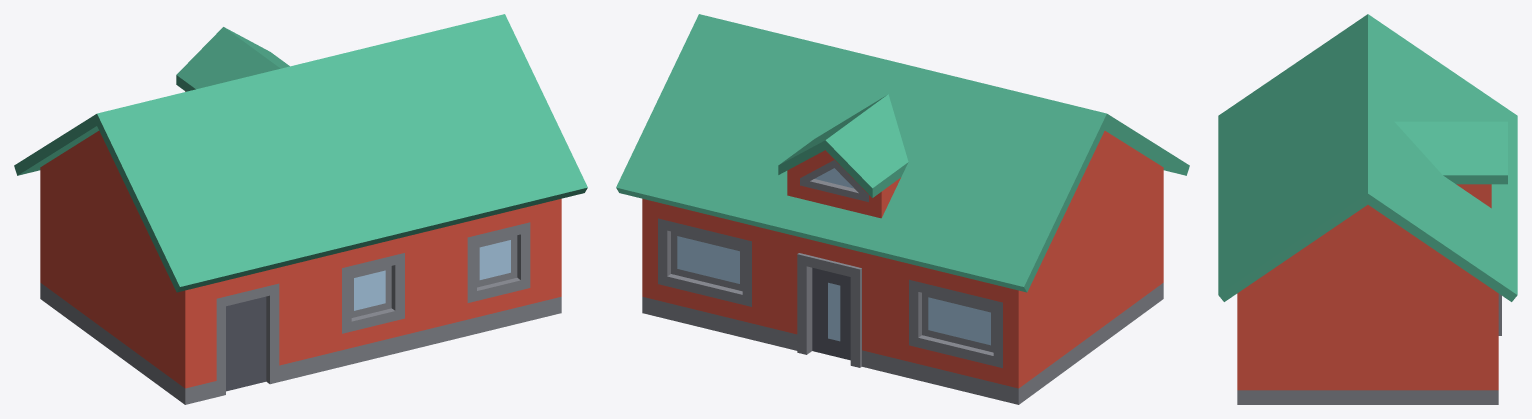
File: house_type07.fbx
3 views of the same model, side by side, from view 1: azimuth 30°, elevation 25°; view 2: azimuth 150°, elevation 25°; view 3: azimuth 270°, elevation 25° (orthographic). The views are drawn at different scales.
Visible parts, largest first — view 1: house_type07; view 2: house_type07; view 3: house_type07.
Boxes of the visible parts, box(x1,y1,x2,y2) form: house_type07: box(14, 14, 587, 404); house_type07: box(616, 14, 1189, 404); house_type07: box(1218, 14, 1517, 404).
Size of the model in its own units: 13 by 7.38 by 9.16.
